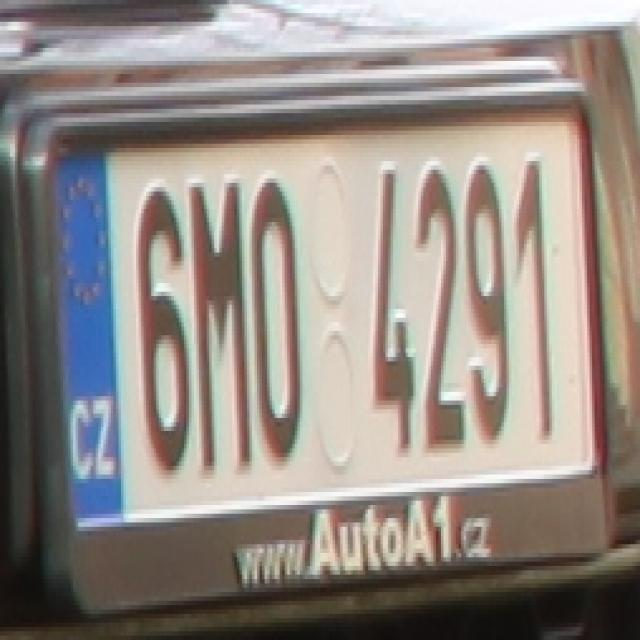0: (247, 174, 300, 462)
1: (514, 152, 559, 436)
2: (413, 157, 466, 444)
4: (365, 156, 416, 440)
6: (131, 179, 192, 470)
9: (464, 152, 509, 436)
M: (186, 170, 252, 466)
